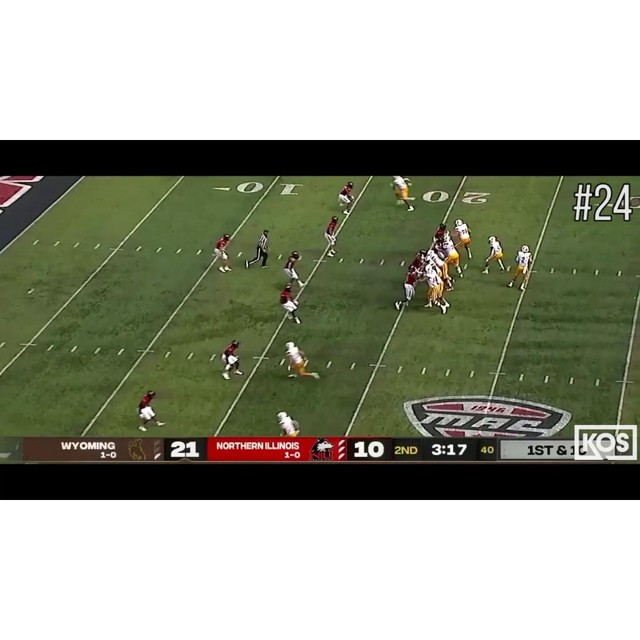american-football-player: (285, 342, 319, 380), (393, 266, 422, 310), (422, 268, 448, 314), (507, 245, 533, 290), (137, 391, 165, 432), (441, 232, 464, 279), (482, 235, 508, 273), (220, 339, 244, 379), (279, 284, 302, 324), (453, 218, 473, 261), (391, 176, 414, 211), (283, 251, 304, 288), (213, 234, 232, 273), (277, 411, 301, 437), (324, 216, 339, 257), (338, 182, 355, 213)
referee: (246, 228, 271, 269)
